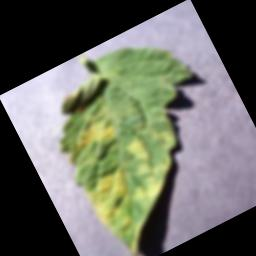Leaf_Mold: (72, 121, 217, 256), (66, 105, 120, 154)
